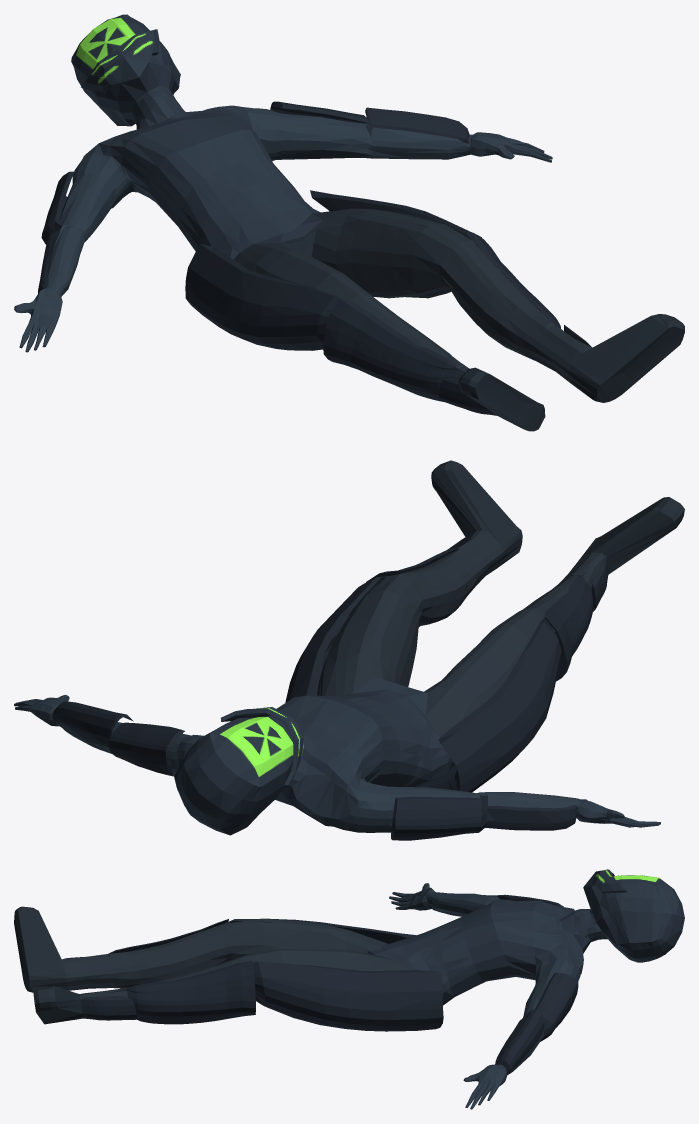
Rendered from Bastion_Die_000012.obj.
3 renders of one model, top to bottom at view 1: azimuth 30°, elevation 25°; view 2: azimuth 150°, elevation 25°; view 3: azimuth 270°, elevation 25°, orthographic. The views are drawn at different scales.
Visible parts, largest first — view 1: Cube.002; view 2: Cube.002; view 3: Cube.002.
Boxes of the visible parts, bbox=[...] form: Cube.002: bbox=[14, 14, 684, 431]; Cube.002: bbox=[14, 460, 684, 840]; Cube.002: bbox=[14, 869, 684, 1109].
Size of the model in its own units: 3.1 by 0.9357 by 3.91.
